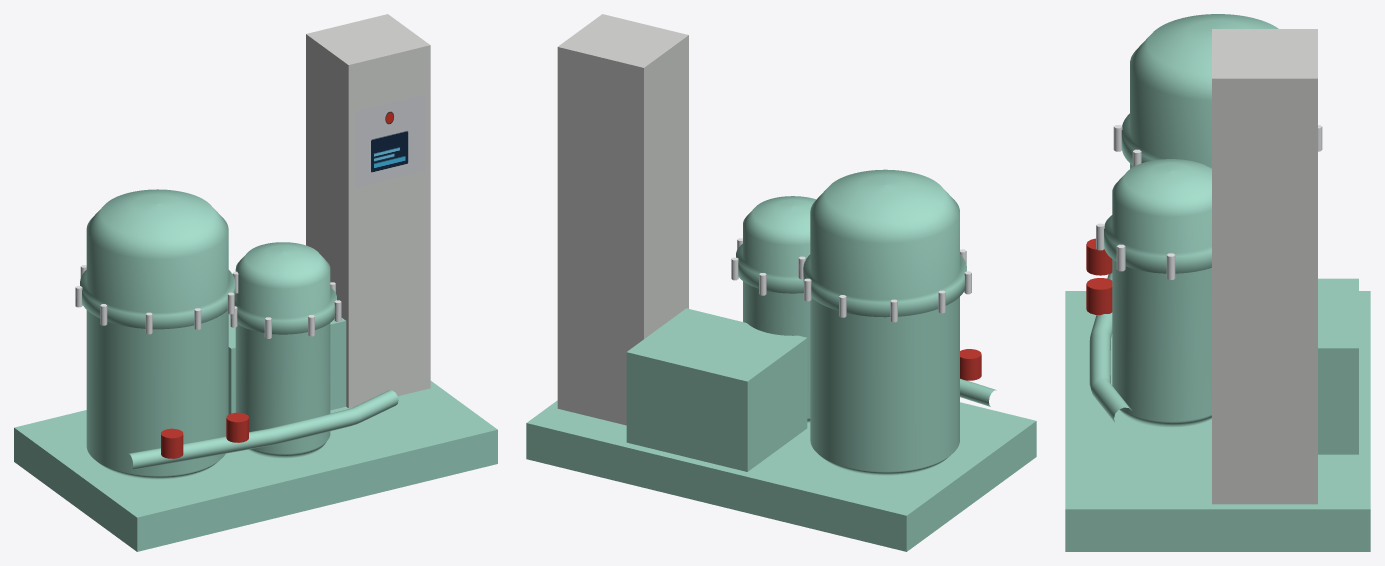
The model's file is trcs.glb.
3 views of the same model, side by side, from view 1: azimuth 30°, elevation 25°; view 2: azimuth 150°, elevation 25°; view 3: azimuth 270°, elevation 25° (orthographic). The views are drawn at different scales.
Visible parts, largest first — view 1: TRCS-100; view 2: TRCS-100; view 3: TRCS-100.
Part boxes in pixels (bbox=[...]): TRCS-100: bbox=[14, 14, 497, 551]; TRCS-100: bbox=[526, 14, 1036, 551]; TRCS-100: bbox=[1065, 14, 1370, 551].
Size of the model in its own units: 0.44 by 0.44 by 0.26.
Materials: 23 (1 with a texture image).
